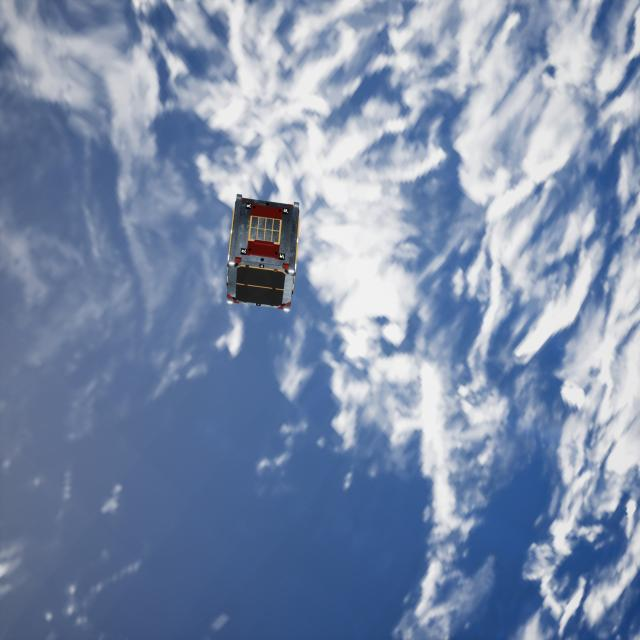satellite: (222, 194, 306, 312)
